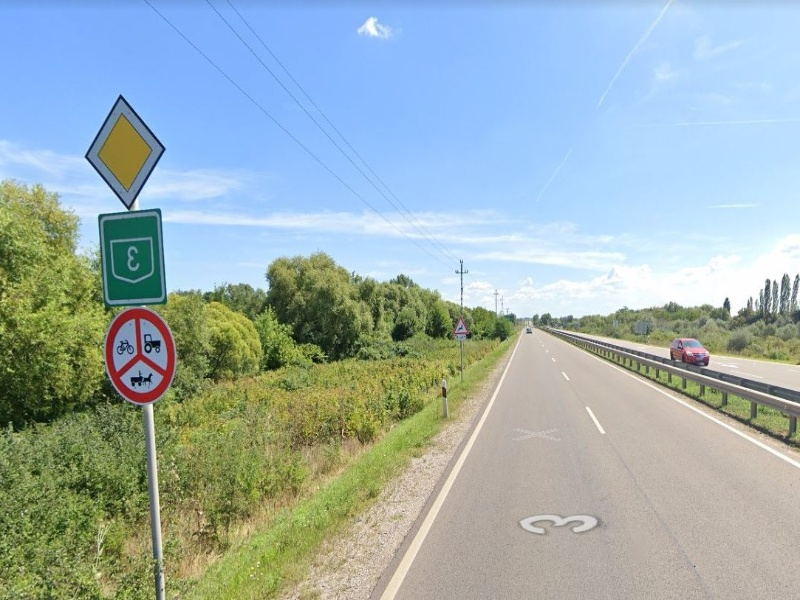fout: (85, 97, 168, 212)
